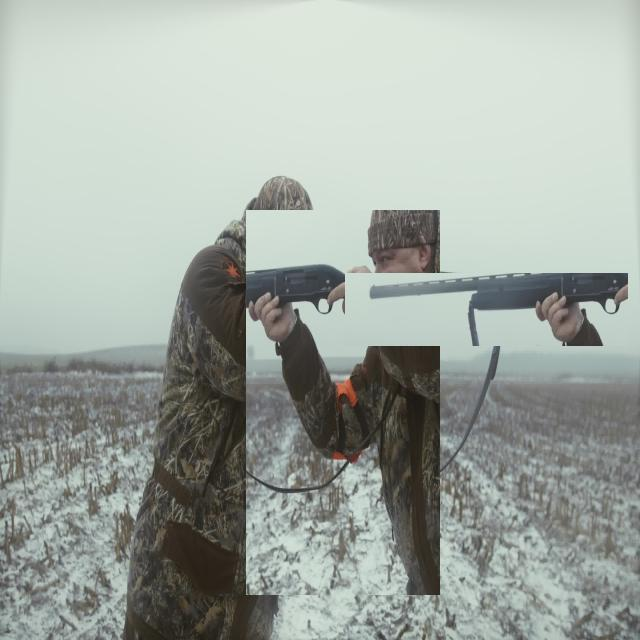poacher: (246, 210, 440, 595)
weapon: (345, 273, 628, 346)
